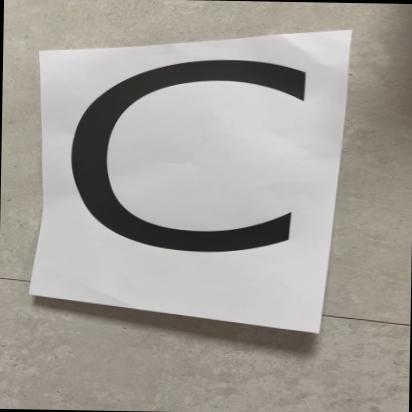seat: (39, 42, 364, 334)
